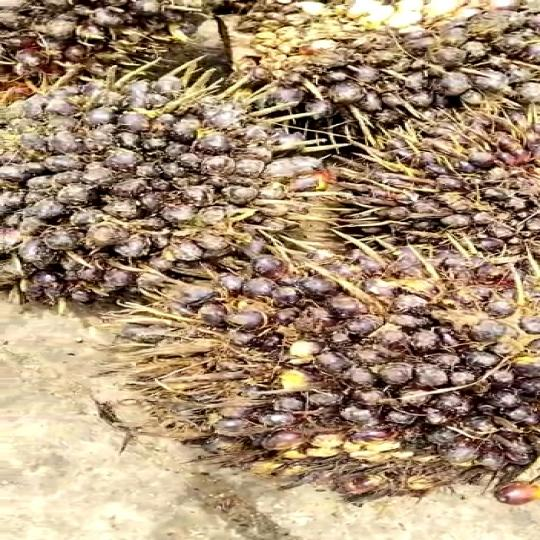mentah: (111, 250, 540, 503), (0, 65, 293, 305)
